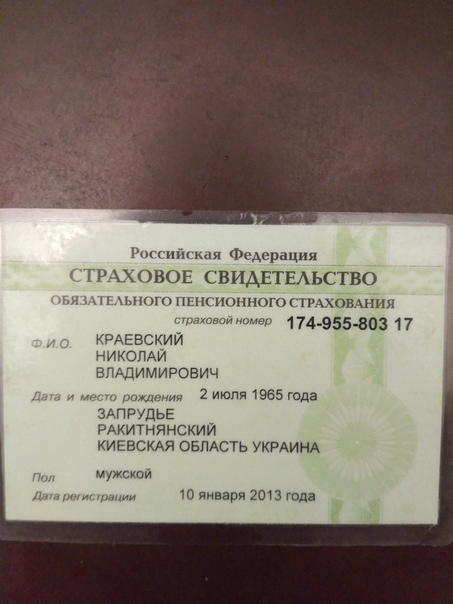text: (95, 405, 323, 457), (287, 313, 414, 334), (92, 362, 222, 382), (177, 486, 319, 504), (198, 385, 321, 404), (90, 329, 183, 348), (91, 346, 172, 366), (94, 467, 155, 481)
